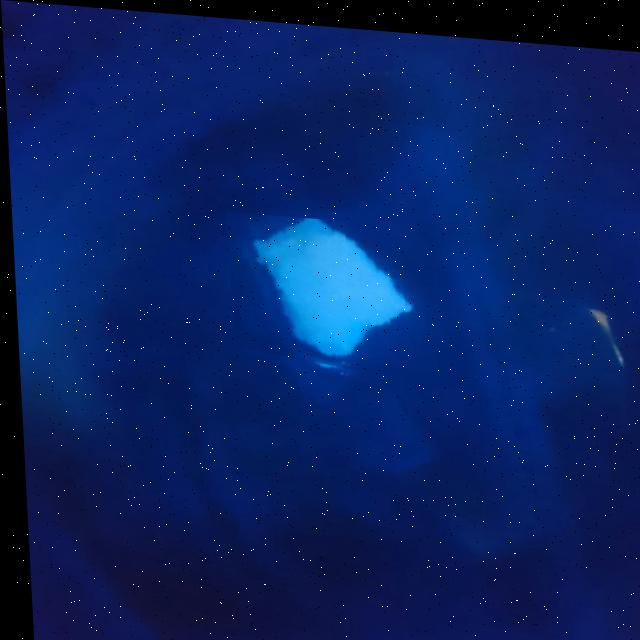thermocoal: (223, 208, 434, 379)
